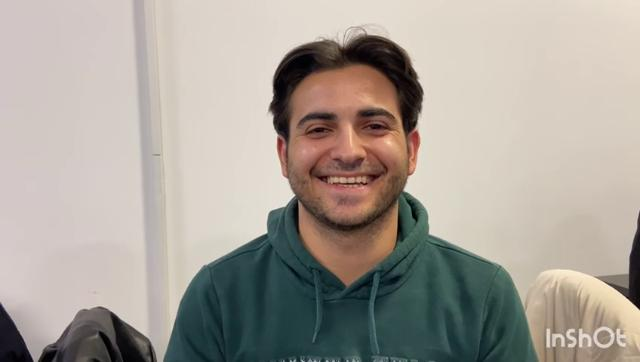senang: (286, 63, 409, 231)
